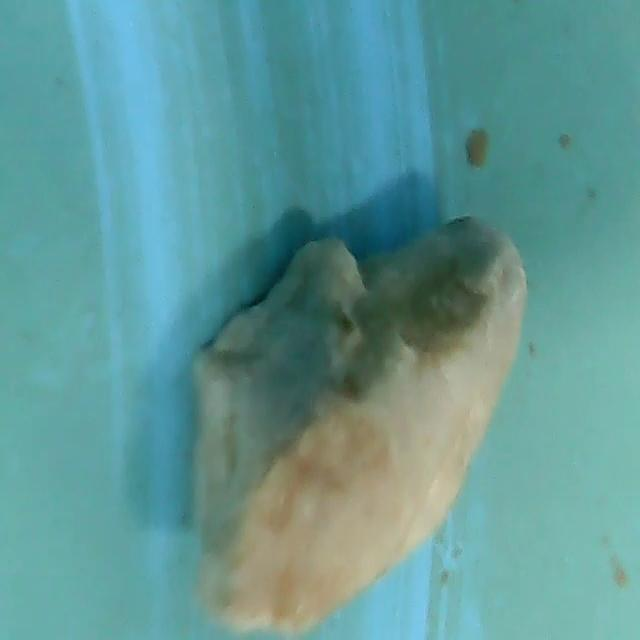rock: (169, 201, 536, 639)
